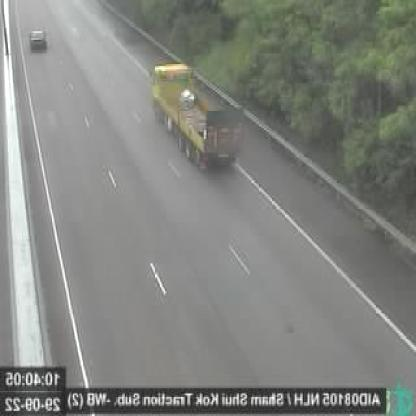Car: (27, 23, 51, 57)
Truck: (148, 54, 246, 180)
